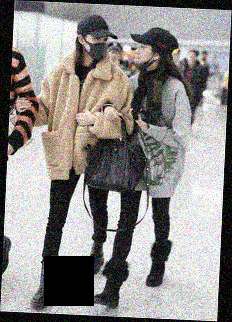mask_weared_incorrect: (133, 42, 155, 69)
with_mask: (82, 34, 109, 60)
